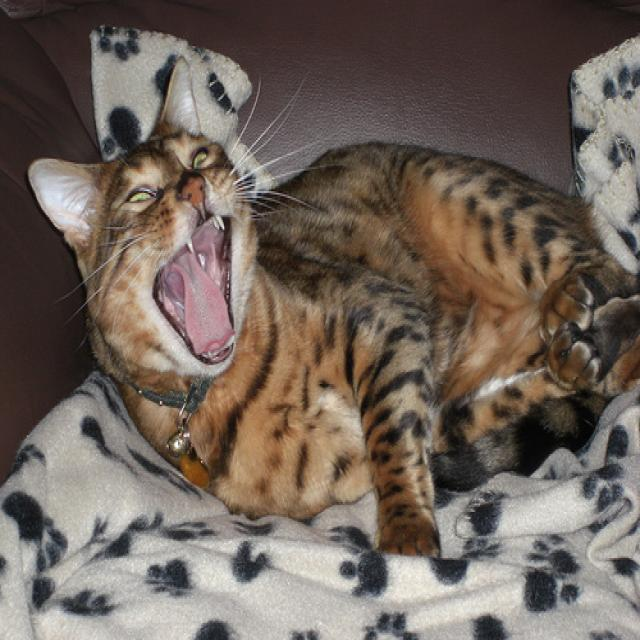Bengal: (26, 53, 256, 377)
